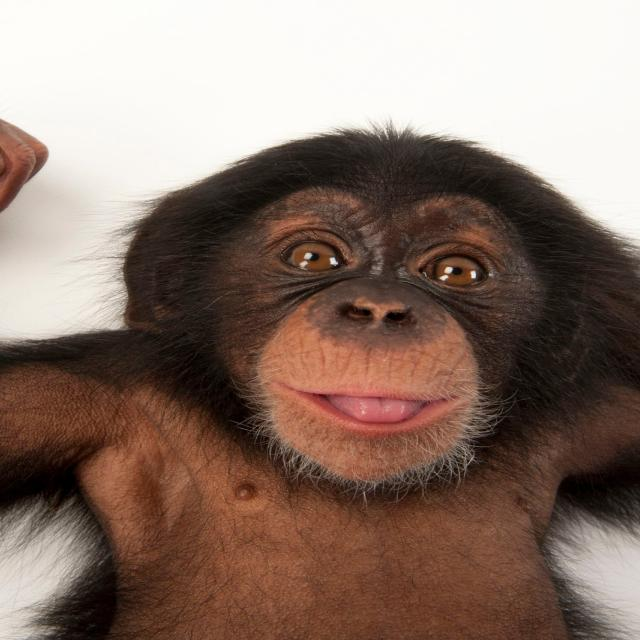Chimpanzee: (0, 128, 640, 640)
